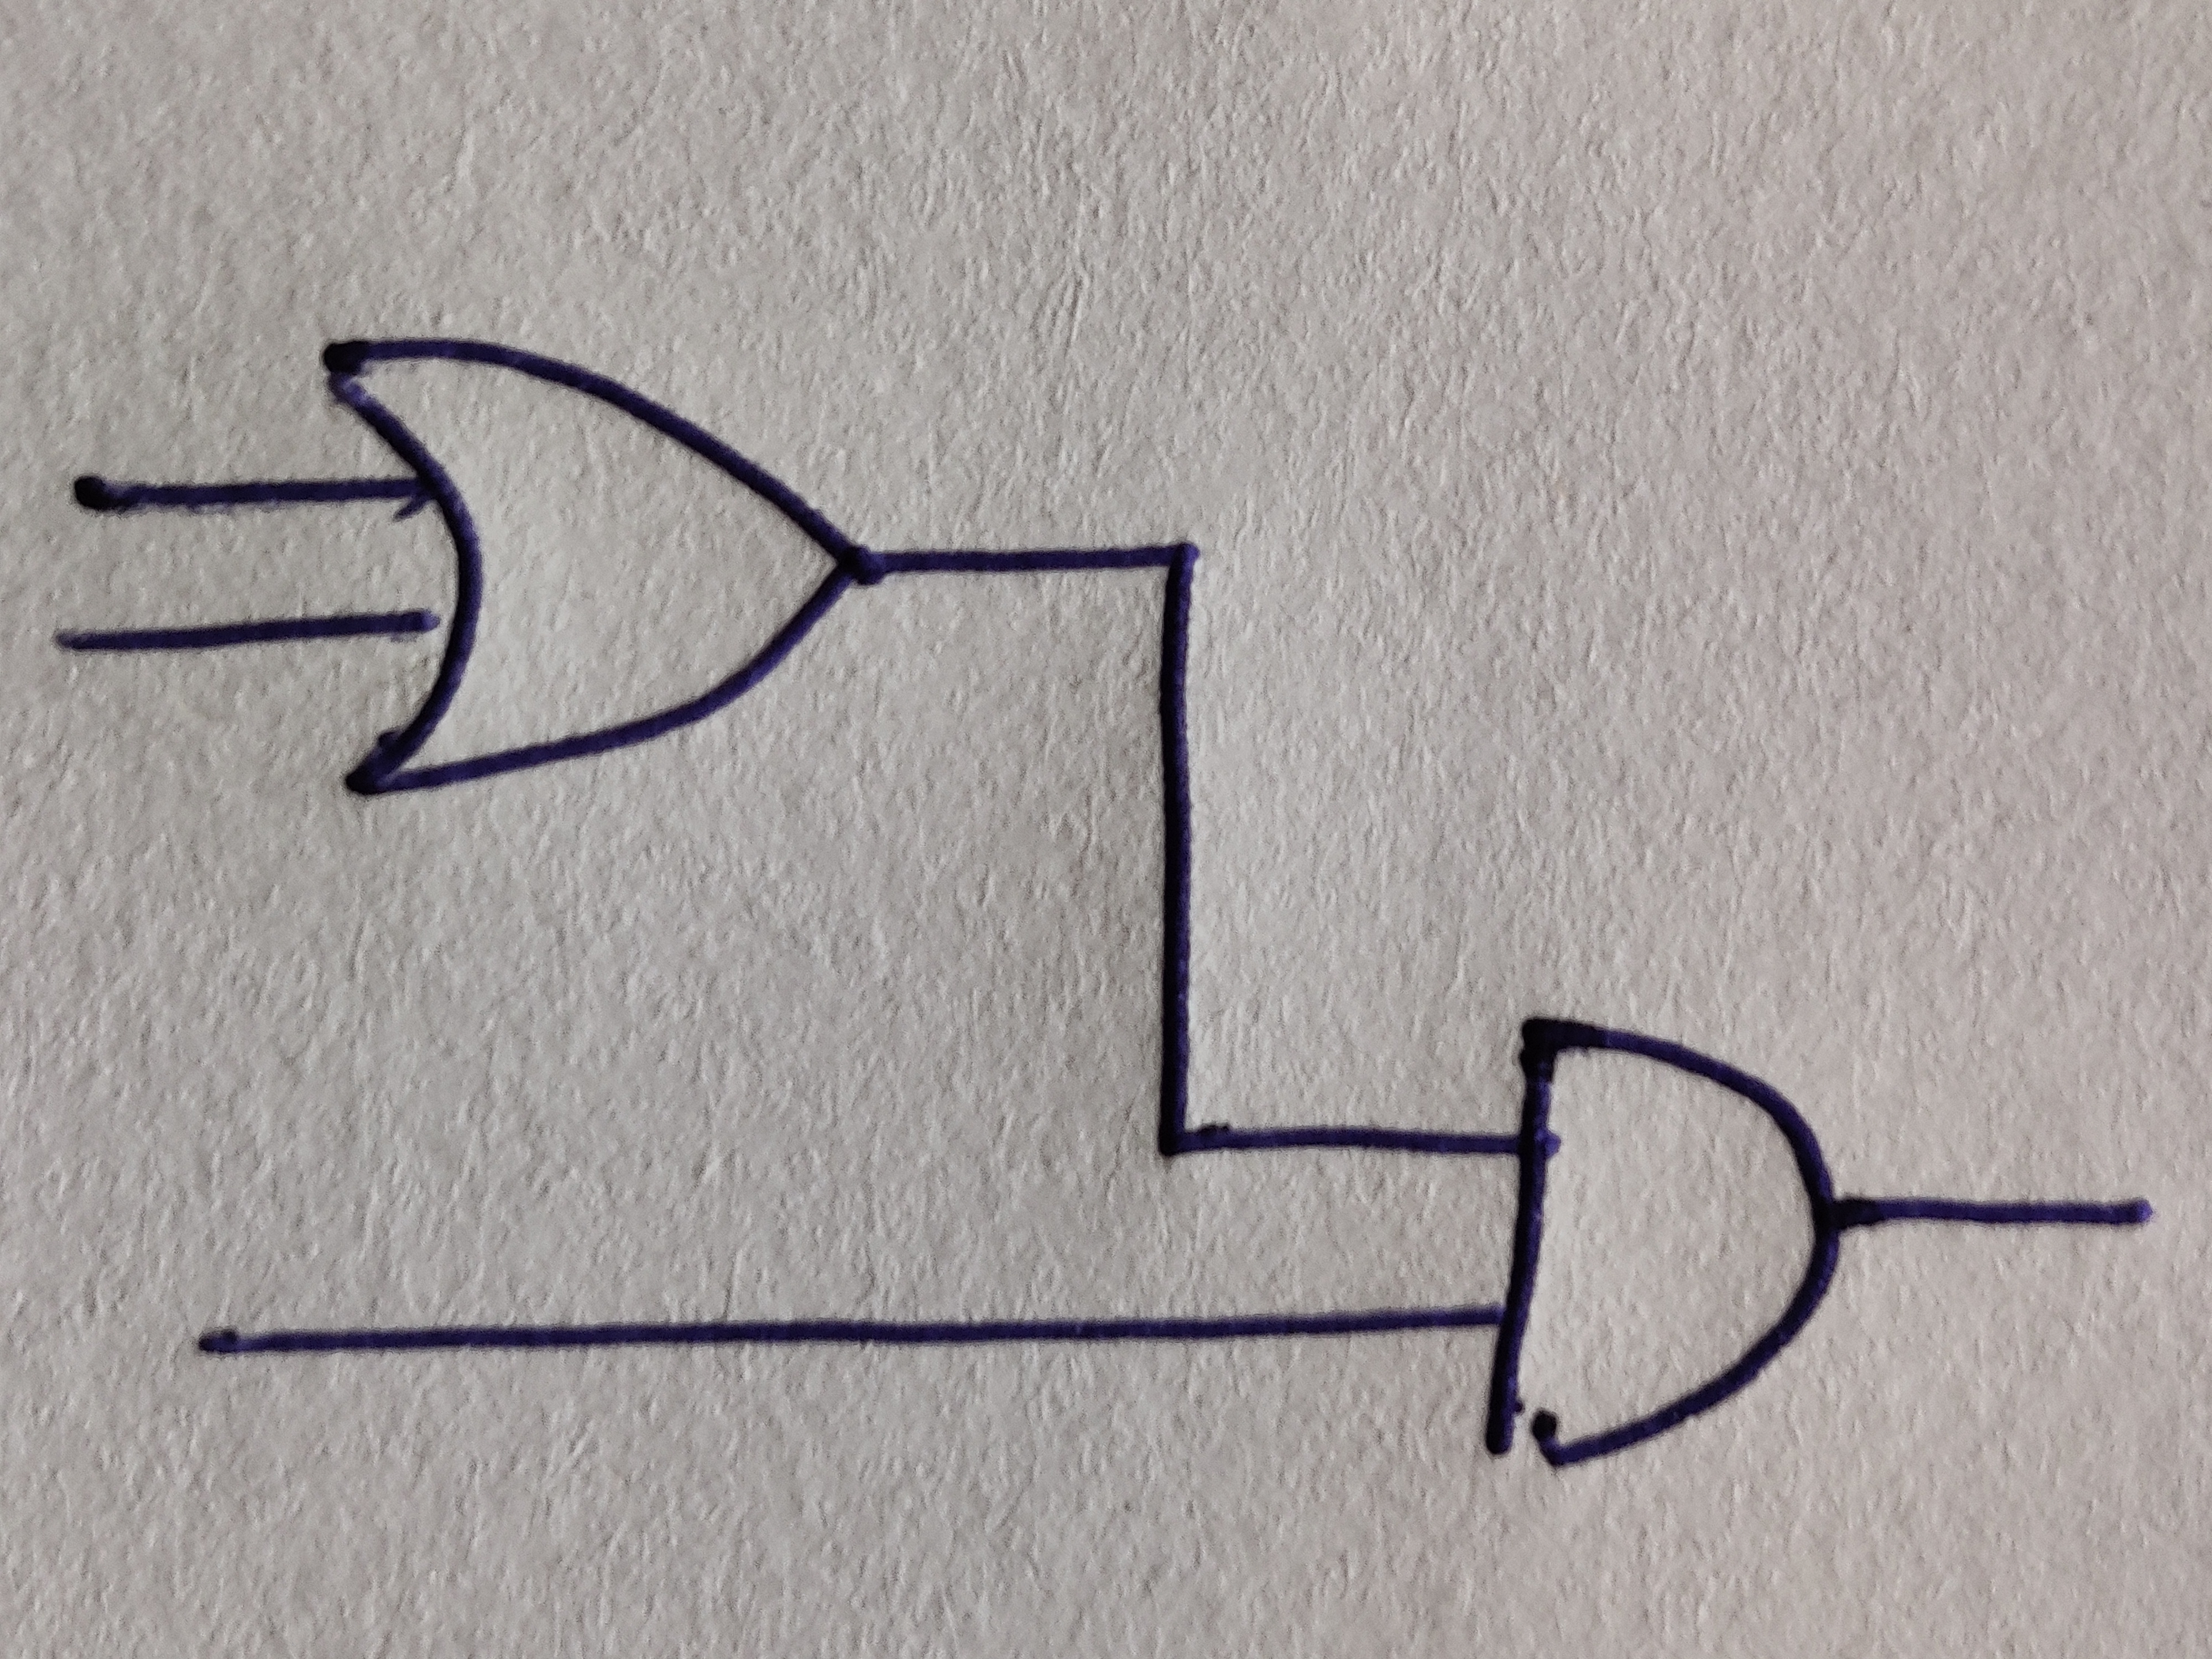and: (1484, 1019, 1839, 1469)
or: (324, 338, 885, 795)
